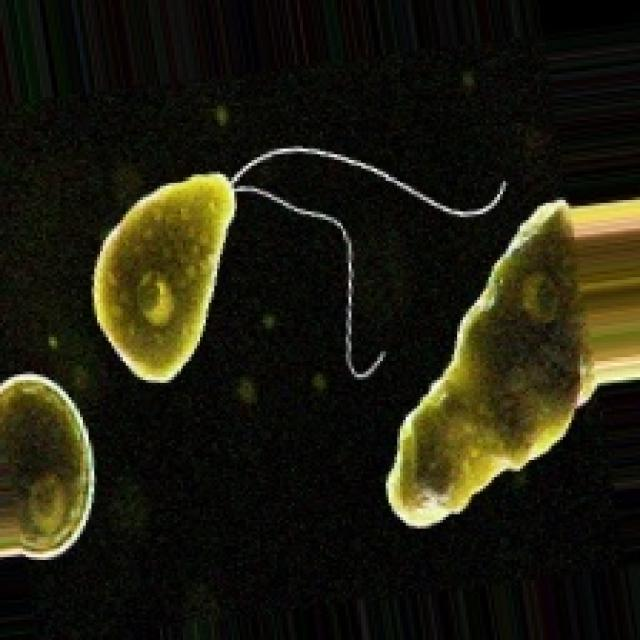Amoeba: (382, 188, 585, 527), (89, 168, 237, 383)
